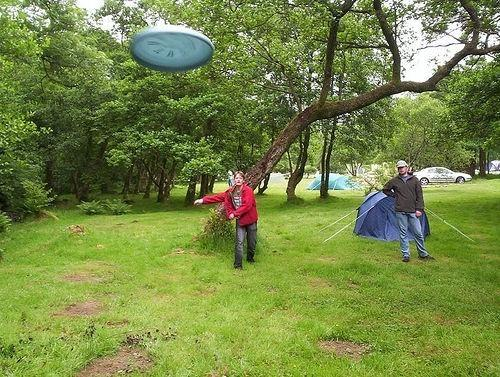car: (412, 166, 472, 185)
